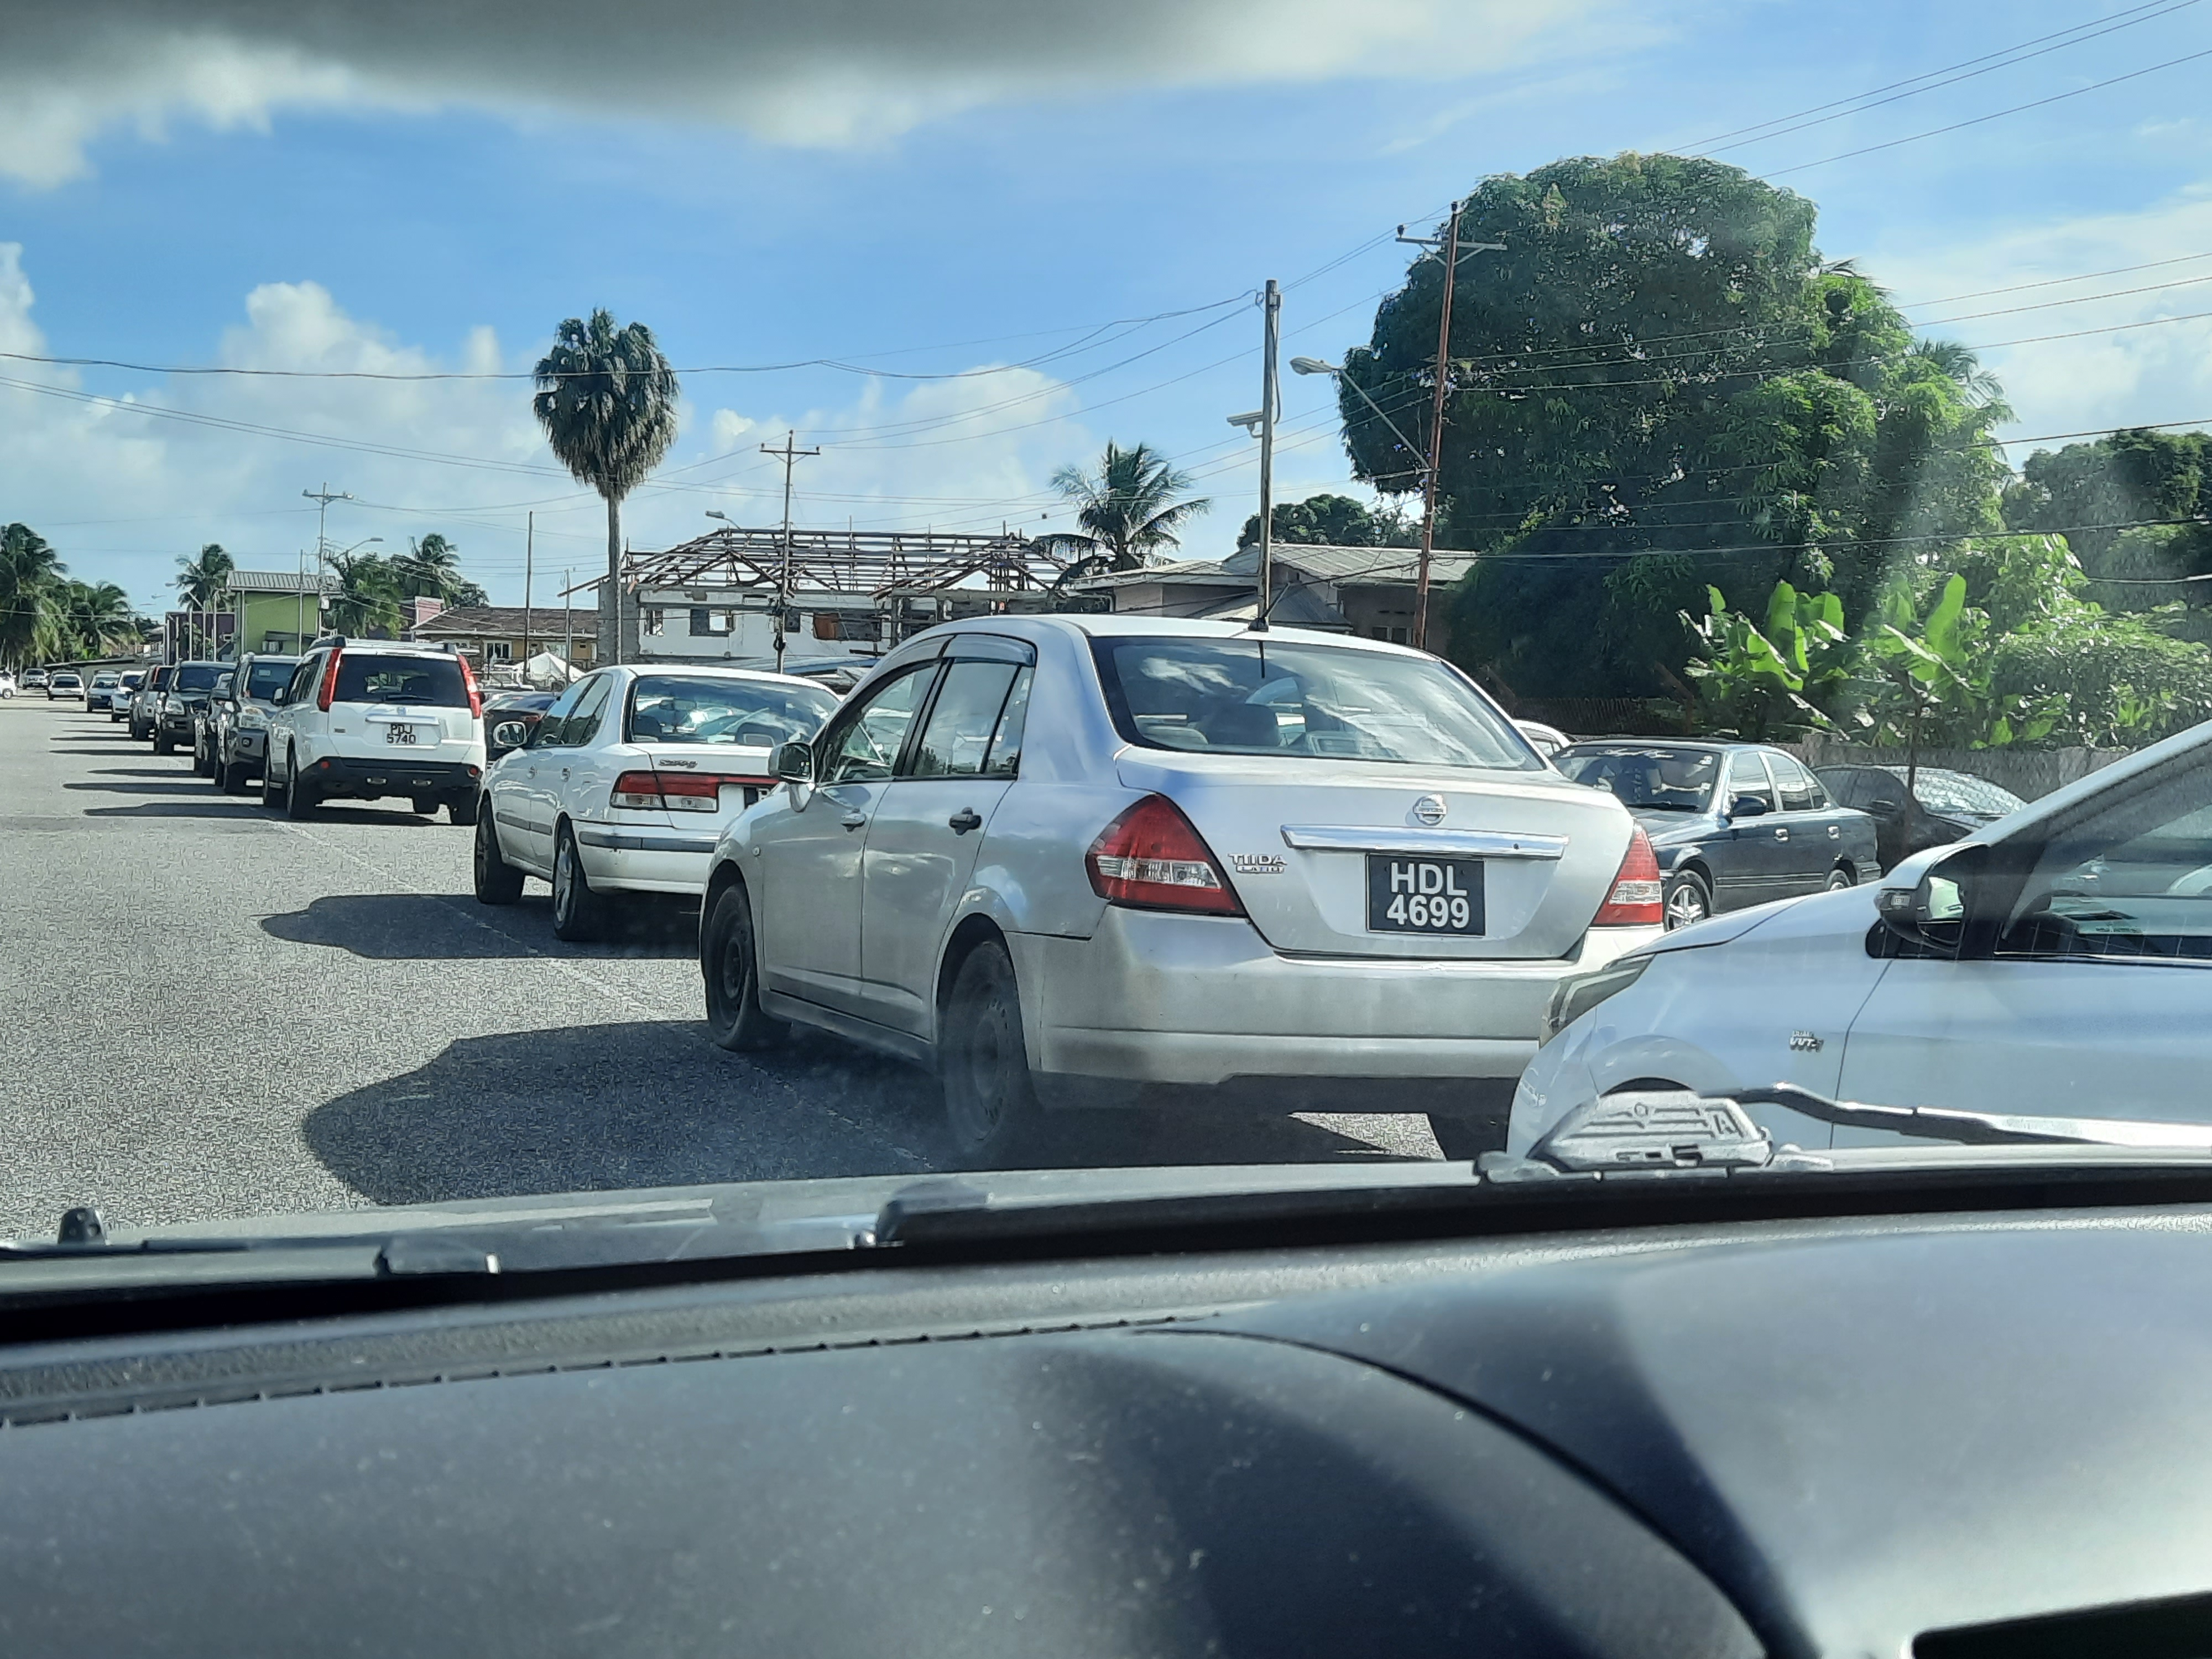License-Plate: (1365, 848, 1489, 937), (383, 723, 419, 745)
